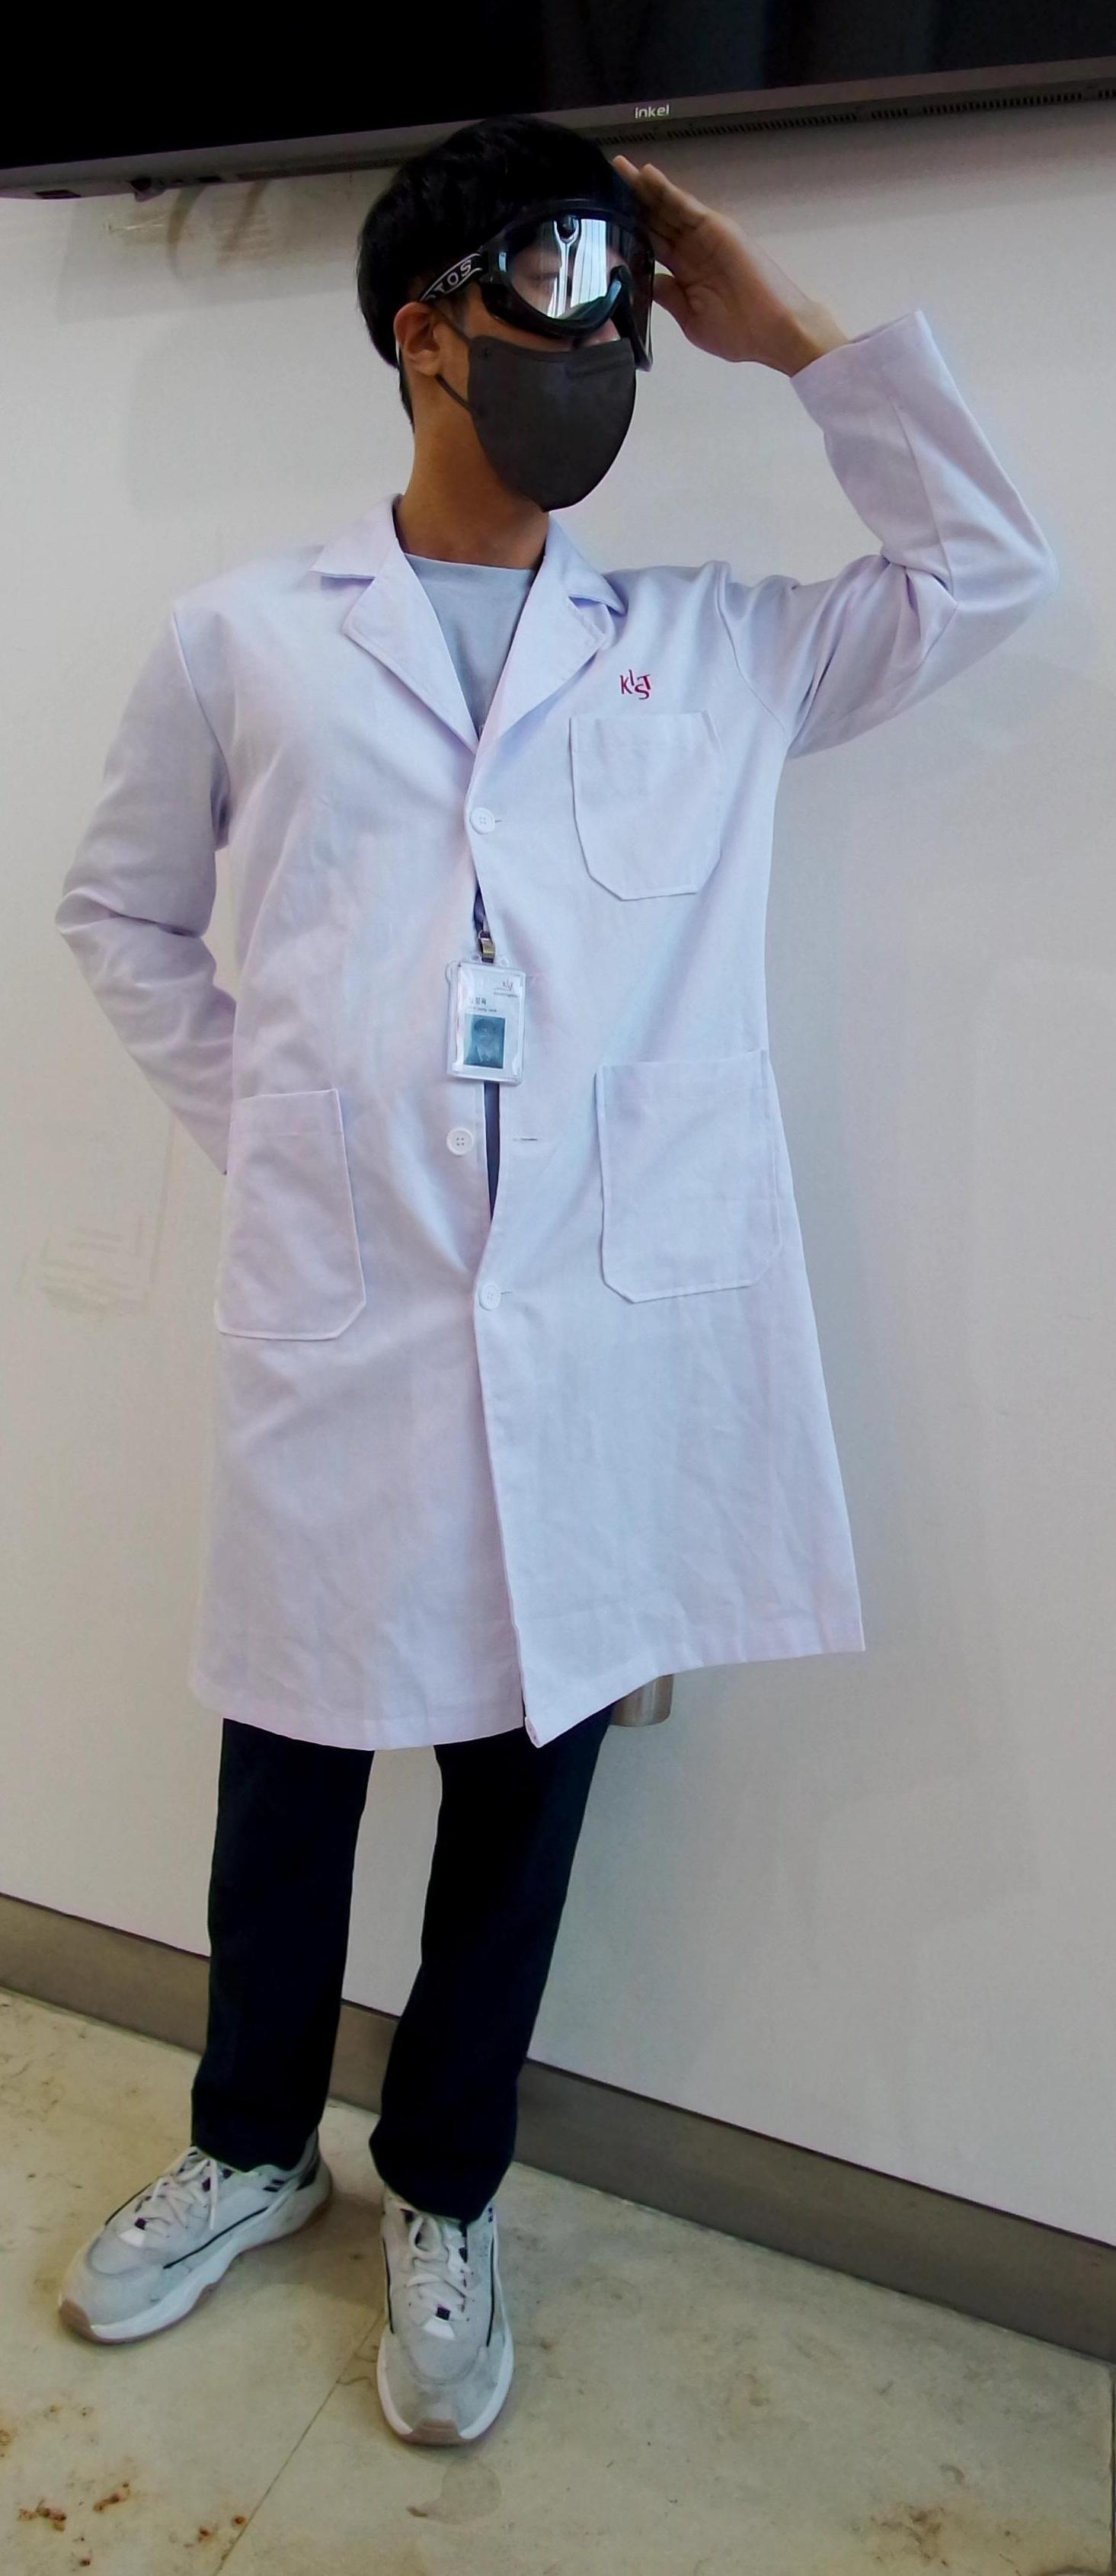lab_coat: (140, 559, 853, 1736)
